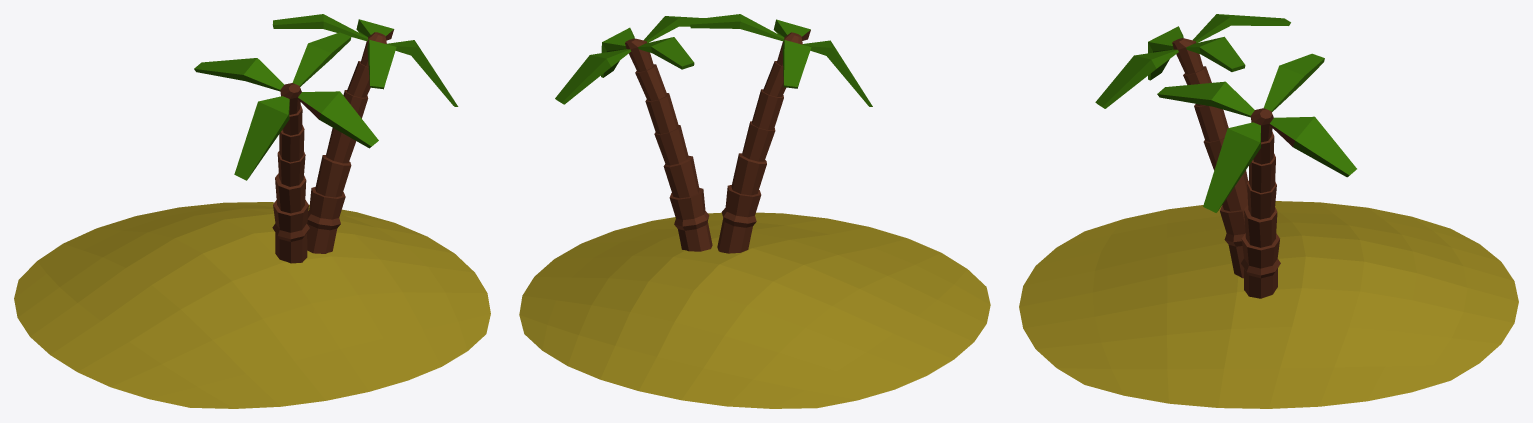
Rendered from Island.glb.
3 renders of one model, left to right at view 1: azimuth 30°, elevation 25°; view 2: azimuth 150°, elevation 25°; view 3: azimuth 270°, elevation 25°, orthographic. The views are drawn at different scales.
Parts seen in each view (by area): view 1: Cube, Cylinder.001, Cylinder; view 2: Cube, Cylinder, Cylinder.001; view 3: Cube, Cylinder, Cylinder.001.
Part boxes in pixels (left/top/right/bottom): Cube: left=14, top=202, right=490, bottom=408; Cylinder.001: left=194, top=32, right=378, bottom=263; Cylinder: left=272, top=14, right=458, bottom=253; Cube: left=519, top=212, right=990, bottom=408; Cylinder: left=555, top=16, right=712, bottom=251; Cylinder.001: left=690, top=14, right=872, bottom=253; Cube: left=1019, top=201, right=1518, bottom=408; Cylinder: left=1157, top=53, right=1356, bottom=298; Cylinder.001: left=1095, top=14, right=1290, bottom=278.
Bounding box in the file's own units: 13.06 × 8.38 × 13.06.
